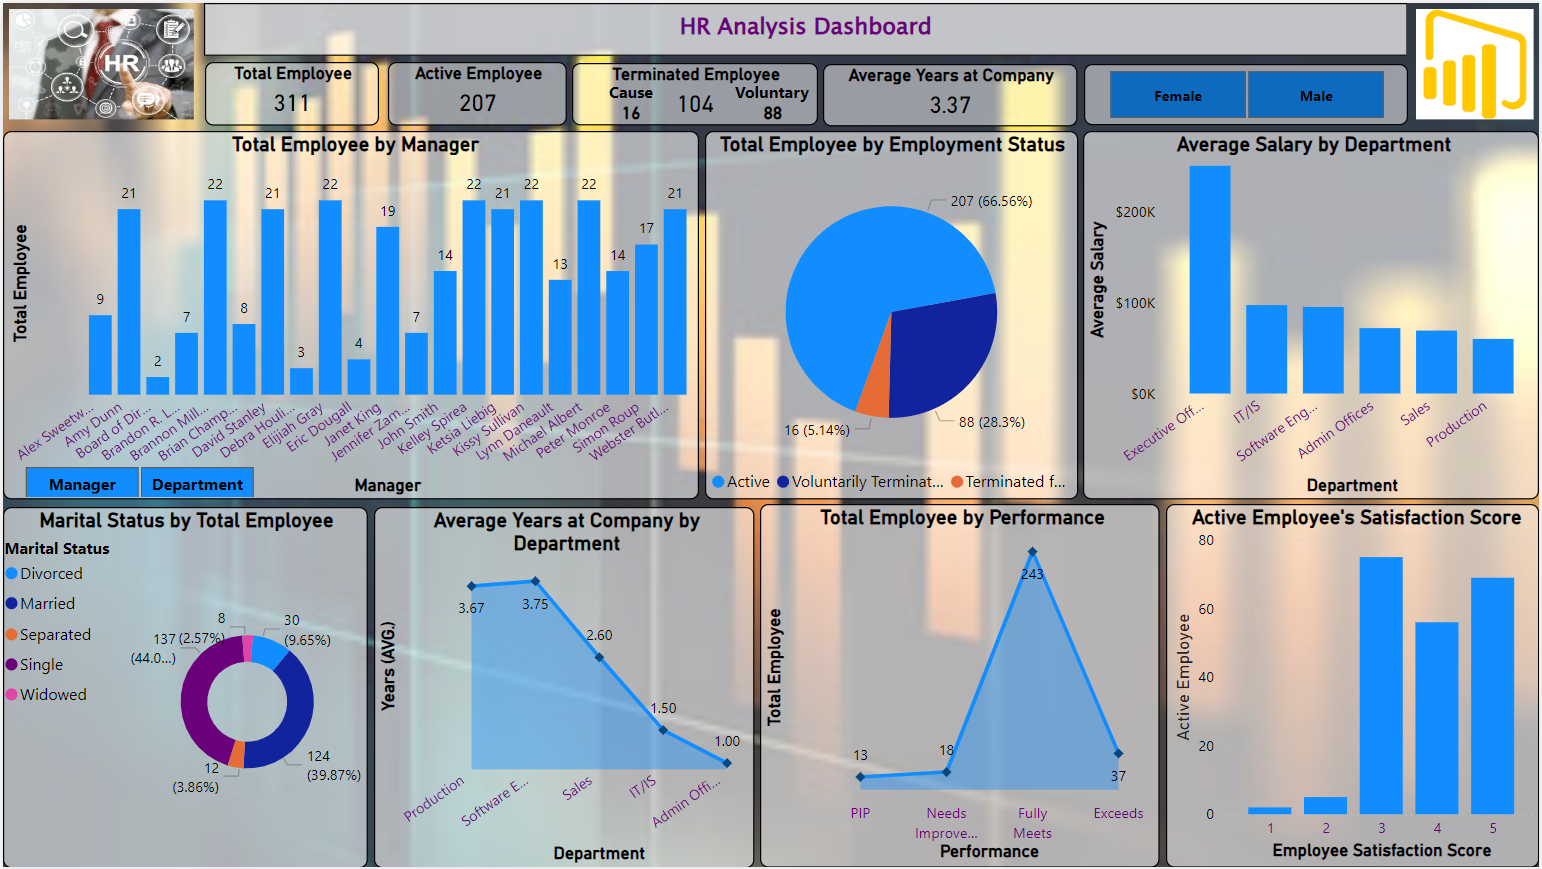

This screenshot's page, from the dashboard's own definition file:
{"tool":"powerbi","page":{"name":"HR","canvas":[1280,720],"ordinal":0},"visuals":[{"type":"pieChart","title":"Total Employee by Employment Status","fields":{"Category":["HRDataset_v14(1).EmploymentStatus"],"Y":["CountNonNull(HRDataset_v14(1).EmpID)"]},"box":[585,106.8,310.6,307],"z":0},{"type":"lineChart","title":"Total Employee by Performance","fields":{"Category":["HRDataset_v14(1).PerformanceScore"],"Y":["CountNonNull(HRDataset_v14(1).EmpID)"]},"box":[631,417.2,332.5,303.1],"z":1000},{"type":"donutChart","title":"Marital Status by Total Employee","fields":{"Y":["CountNonNull(HRDataset_v14(1).EmpID)"],"Series":["HRDataset_v14(1).MaritalDesc"]},"box":[0,420,304,300.6],"z":2000},{"type":"columnChart","fields":{"Category":["HRDataset_v14(1).ManagerName","HRDataset_v14(1).Department"],"Y":["CountNonNull(HRDataset_v14(1).EmpID)"]},"box":[0,106.7,580.4,306.8],"z":3000},{"type":"card","title":"Average Years at Company","fields":{"Values":["Avg(HRDataset_v14(1).YearDifference1)"]},"box":[683.7,50.8,211.8,52],"z":4000},{"type":"slicer","fields":{"Values":["HRDataset_v14(1).Sex"]},"box":[900.4,51.2,270.2,51.2],"z":5000},{"type":"card","title":"Total Employee","fields":{"Values":["HRDataset_v14(1).TotalEmp"]},"box":[168.1,49.1,145,52.8],"z":6000},{"type":"card","title":"Terminated Employee","fields":{"Values":["HRDataset_v14(1).Terminated"]},"box":[474,49.6,205,52],"z":7000},{"type":"card","title":"Active Employee","fields":{"Values":["HRDataset_v14(1).Active"]},"box":[321,49.1,149,52.8],"z":8000},{"type":"textbox","box":[167.9,0,1003,44],"z":9000},{"type":"image","box":[0,0,164.3,102.3],"z":10000},{"type":"image","box":[1172.5,0,107.7,102.3],"z":11000},{"type":"card","fields":{"Values":["HRDataset_v14(1).TerminatedForCause"]},"box":[503.4,76.2,39.9,33.9],"z":12000},{"type":"card","fields":{"Values":["HRDataset_v14(1).VoluntaryTermination"]},"box":[620,76.3,43.1,32.3],"z":13000},{"type":"textbox","box":[610,65,70,19.8],"z":14000},{"type":"textbox","box":[505,65,44.9,19],"z":15000},{"type":"slicer","fields":{"Values":["Manager_Department.Manager_Department"]},"box":[0,387,228,24.5],"z":16000},{"type":"lineChart","title":"Average Years at Company by Department","fields":{"Category":["HRDataset_v14(1).Department"],"Y":["Avg(HRDataset_v14(1).YearDifference1)"]},"box":[309,419.6,316.6,300.6],"z":17000},{"type":"columnChart","title":"Average Salary by Department","fields":{"Category":["HRDataset_v14(1).Department"],"Y":["Avg(HRDataset_v14(1).Salary)"]},"box":[900,106.7,380,306.8],"z":18000},{"type":"clusteredColumnChart","title":"Active Employee''s Satisfaction Score","fields":{"Category":["HRDataset_v14(1).EmpSatisfaction"],"Y":["HRDataset_v14(1).Active"]},"box":[969,417.5,311,302.5],"z":19000}]}

Visuals, with their boxes in screenshot pixels (x1, y1, x2, y2), scaled from the page's 1280x720 canvas onto the 1542x869 screenshot:
"Total Employee by Employment Status" pieChart: <region>705, 129, 1079, 499</region>
"Total Employee by Performance" lineChart: <region>760, 504, 1161, 868</region>
"Marital Status by Total Employee" donutChart: <region>0, 507, 366, 868</region>
columnChart - HRDataset_v14(1).ManagerName x HRDataset_v14(1).Department: <region>0, 129, 699, 499</region>
"Average Years at Company" card: <region>824, 61, 1079, 124</region>
slicer - HRDataset_v14(1).Sex: <region>1085, 62, 1410, 124</region>
"Total Employee" card: <region>203, 59, 377, 123</region>
"Terminated Employee" card: <region>571, 60, 818, 123</region>
"Active Employee" card: <region>387, 59, 566, 123</region>
textbox: <region>202, 0, 1411, 53</region>
image: <region>0, 0, 198, 123</region>
image: <region>1412, 0, 1541, 123</region>
card - HRDataset_v14(1).TerminatedForCause: <region>606, 92, 655, 133</region>
card - HRDataset_v14(1).VoluntaryTermination: <region>747, 92, 799, 131</region>
textbox: <region>735, 78, 819, 102</region>
textbox: <region>608, 78, 662, 101</region>
slicer - Manager_Department.Manager_Department: <region>0, 467, 275, 497</region>
"Average Years at Company by Department" lineChart: <region>372, 506, 754, 868</region>
"Average Salary by Department" columnChart: <region>1084, 129, 1541, 499</region>
"Active Employee''s Satisfaction Score" clusteredColumnChart: <region>1167, 504, 1541, 868</region>
